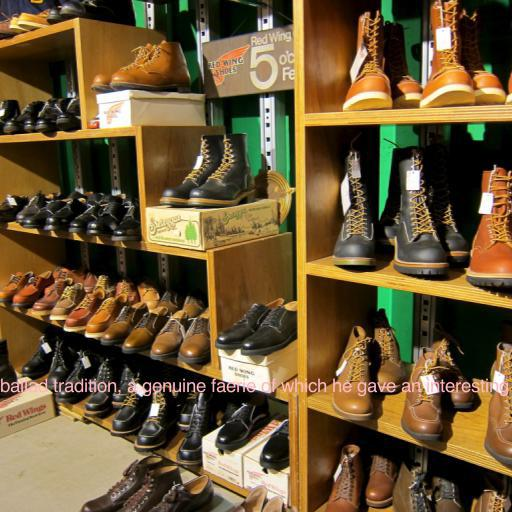SignPainter: (0, 378, 509, 397)
